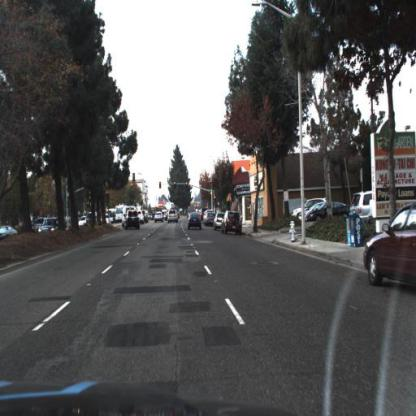car: (362, 201, 416, 292), (305, 197, 346, 222), (349, 186, 374, 218), (221, 208, 243, 239), (184, 209, 204, 230), (36, 216, 62, 232), (123, 208, 141, 231), (212, 207, 224, 235), (203, 208, 219, 228), (204, 208, 218, 229), (166, 207, 180, 224), (154, 212, 164, 224)
